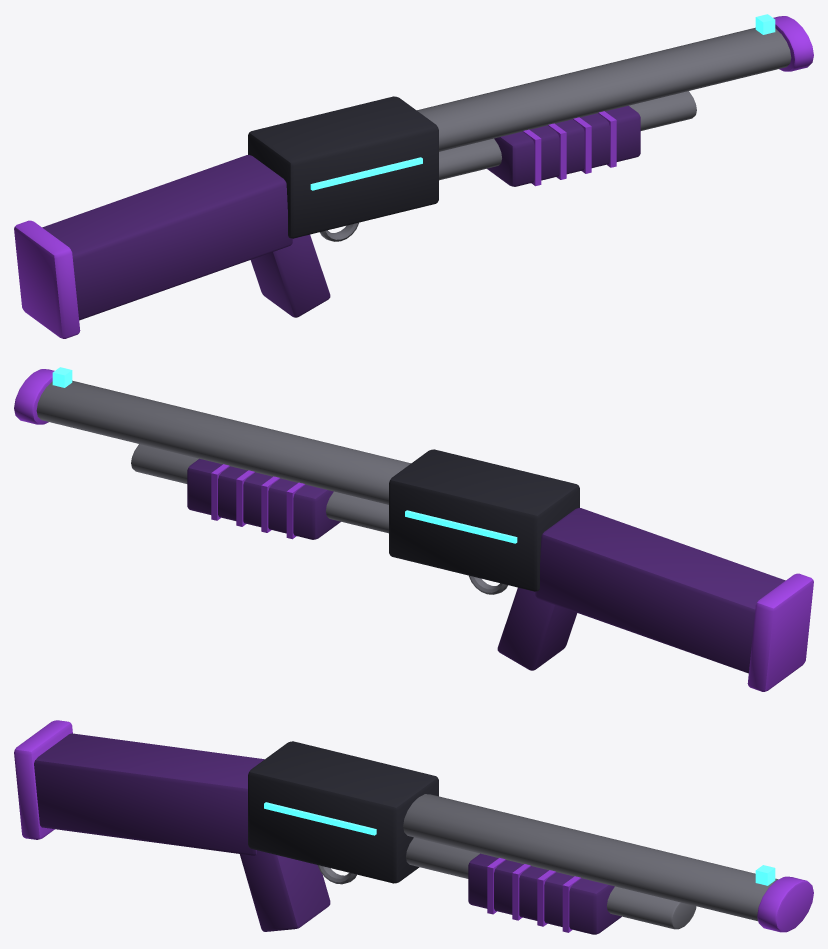
File: SGP_Shotgun_Neon.glb
The picture shows the model from 3 angles, top to bottom: view 1: azimuth 30°, elevation 25°; view 2: azimuth 150°, elevation 25°; view 3: azimuth 330°, elevation 25°; orthographic projection.
Visible parts, largest first — view 1: SGP_Shotgun_Neon; view 2: SGP_Shotgun_Neon; view 3: SGP_Shotgun_Neon.
Boxes of the visible parts, x1,y1,x2,y2 form: SGP_Shotgun_Neon: (14, 14, 813, 338); SGP_Shotgun_Neon: (14, 367, 813, 691); SGP_Shotgun_Neon: (14, 720, 813, 934).
Bounding box in the file's own units: 0.759 × 0.1617 × 0.0832.
